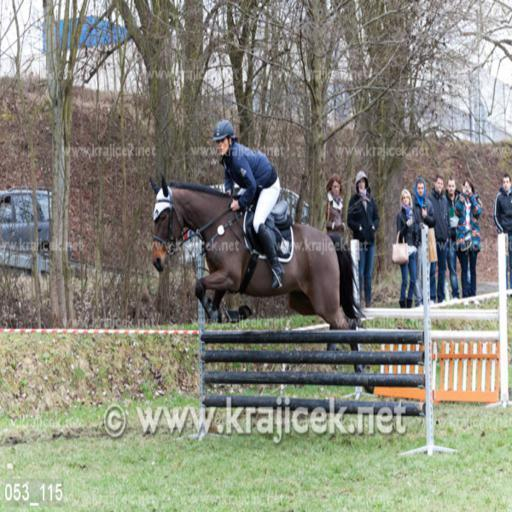horse: (150, 168, 371, 396)
